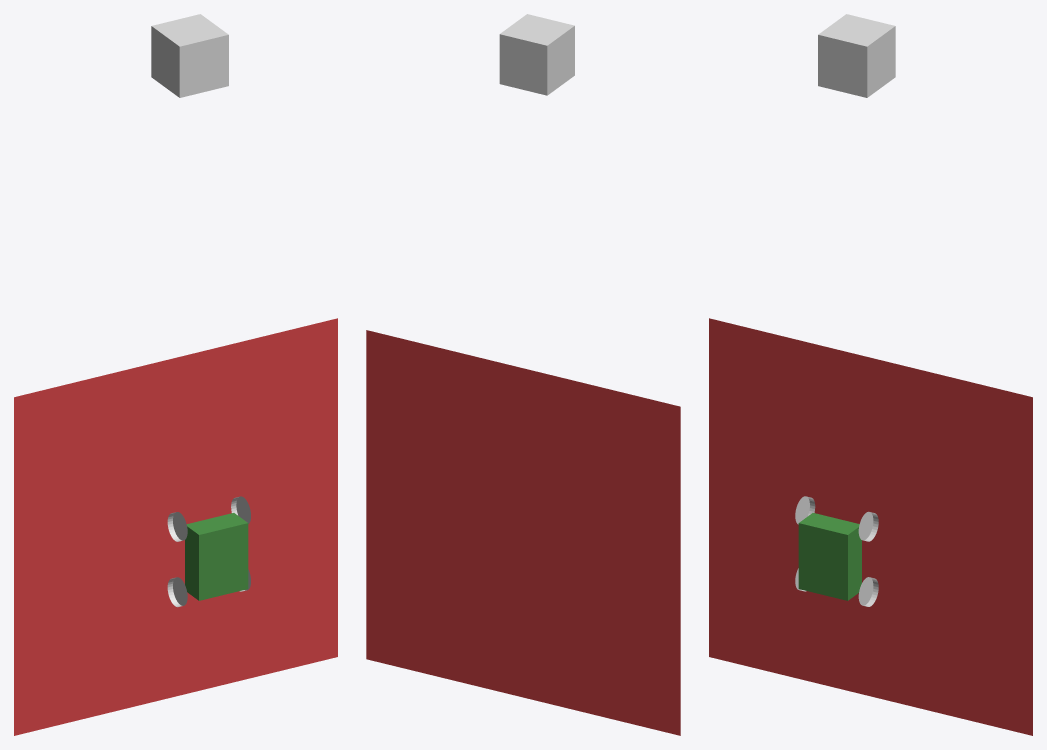
File: essai.gltf
3 views of the same model, side by side, from view 1: azimuth 30°, elevation 25°; view 2: azimuth 150°, elevation 25°; view 3: azimuth 330°, elevation 25° (orthographic). The views are drawn at different scales.
Visible parts, largest first — view 1: Plane, obstacle, Cube; view 2: Plane, obstacle; view 3: Plane, obstacle, Cube.
Part boxes in pixels (x1,y1,x2,y2): Plane: (14,318,337,735); obstacle: (151,14,228,97); Cube: (185,513,248,600); Plane: (366,330,680,735); obstacle: (499,14,574,95); Plane: (709,318,1032,735); obstacle: (818,14,895,97); Cube: (798,513,861,600).
Size of the model in its own units: 13.19 by 26.34 by 3.36.
